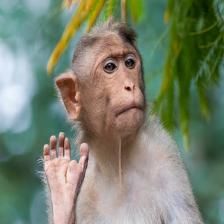monkey: (39, 15, 202, 224)
